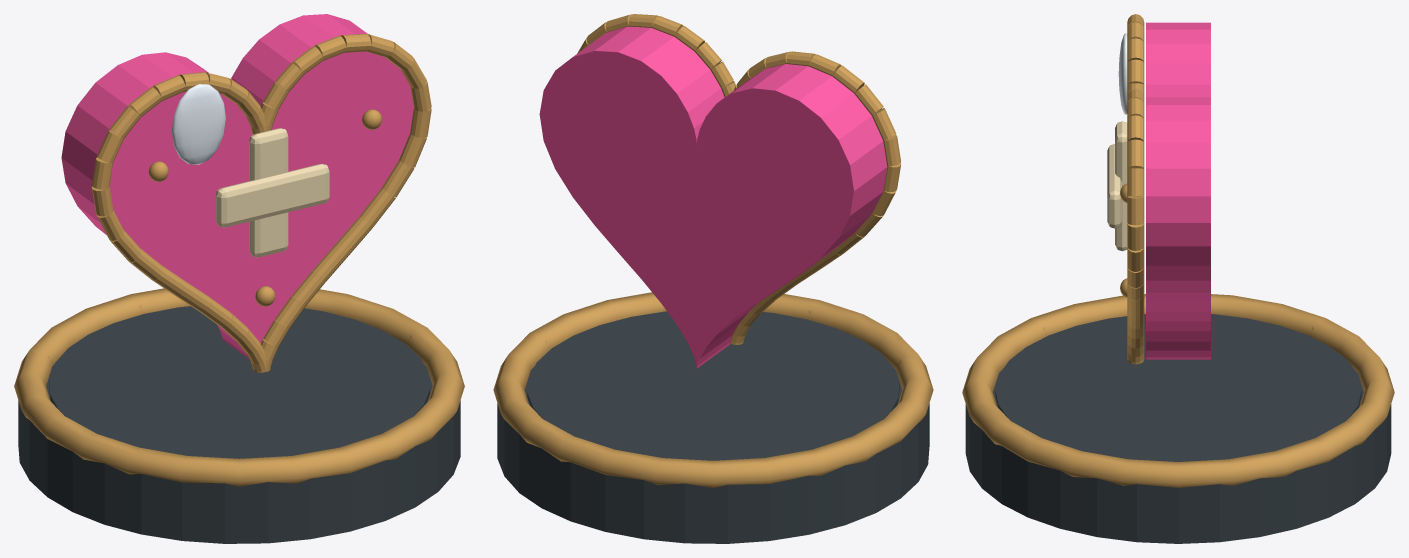
File: life.glb
3 views of the same model, side by side, from view 1: azimuth 30°, elevation 25°; view 2: azimuth 150°, elevation 25°; view 3: azimuth 270°, elevation 25° (orthographic). The views are drawn at different scales.
Parts seen in each view (by area): view 1: SM_UpgradeLife; view 2: SM_UpgradeLife; view 3: SM_UpgradeLife.
Part boxes in pixels (x1,y1,x2,y2): SM_UpgradeLife: (14,14,464,543); SM_UpgradeLife: (493,14,933,543); SM_UpgradeLife: (962,14,1394,543).
Size of the model in its own units: 0.732 by 0.7365 by 0.732.
